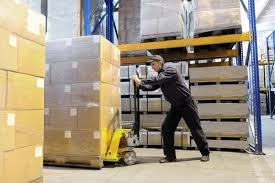Pallet Jack: (42, 65, 142, 168)
